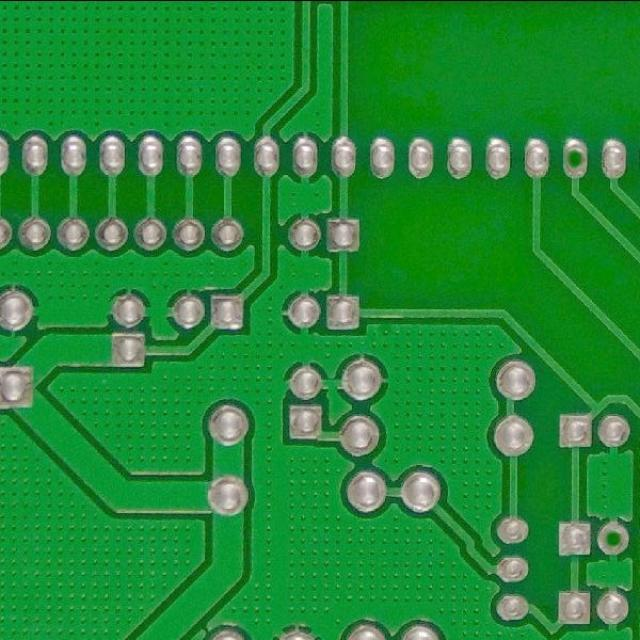missing_hole: (596, 520, 630, 559), (562, 136, 596, 175)
